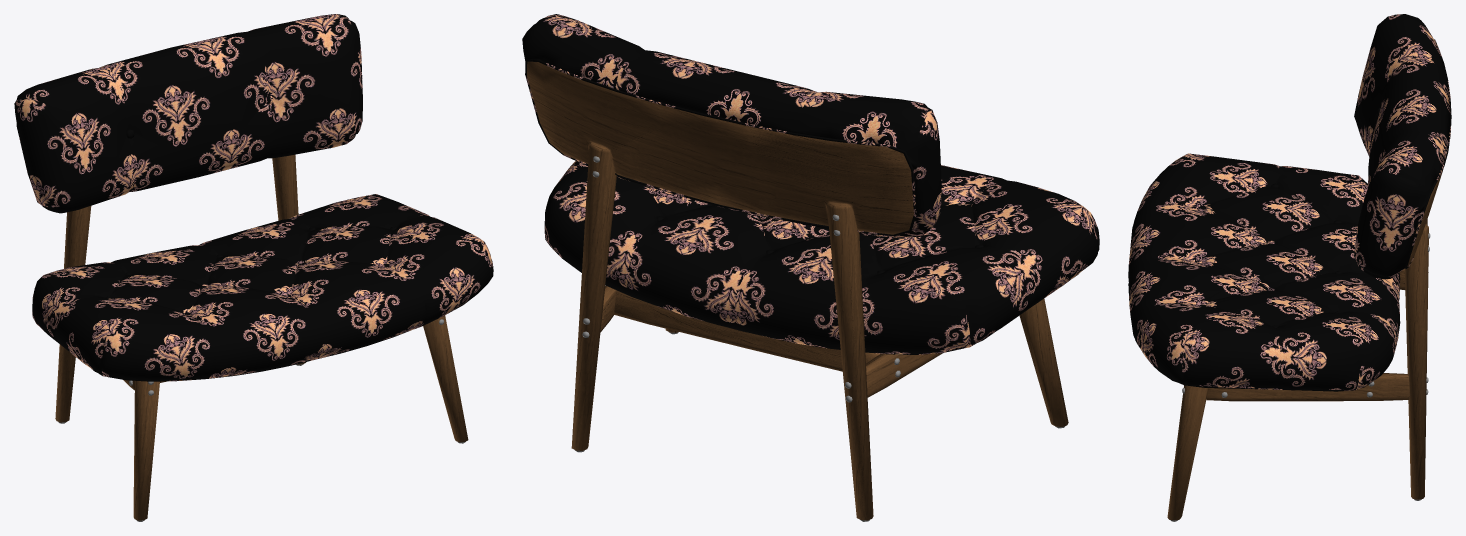
File: armchair.glb
The picture shows the model from 3 angles, left to right: view 1: azimuth 30°, elevation 25°; view 2: azimuth 150°, elevation 25°; view 3: azimuth 270°, elevation 25°; orthographic projection. The views are drawn at different scales.
Parts seen in each view (by area): view 1: oval-tufted-chair_back-fabric, oval-tufted-chair_legs-frame; view 2: oval-tufted-chair_back-fabric, oval-tufted-chair_legs-frame; view 3: oval-tufted-chair_back-fabric, oval-tufted-chair_legs-frame.
Part boxes in pixels (x1,y1,x2,y2): oval-tufted-chair_back-fabric: [14, 14, 493, 381]; oval-tufted-chair_legs-frame: [55, 154, 468, 520]; oval-tufted-chair_back-fabric: [522, 14, 1099, 354]; oval-tufted-chair_legs-frame: [527, 61, 1068, 520]; oval-tufted-chair_back-fabric: [1128, 14, 1451, 391]; oval-tufted-chair_legs-frame: [1167, 169, 1443, 520].
Size of the model in its own units: 0.8286 by 0.6874 by 0.5716.
4 materials, 3 textured.
